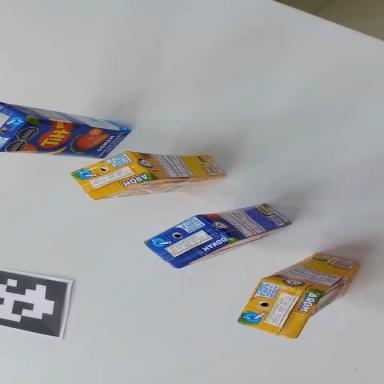HIT-MANGO: (142, 186, 292, 276), (0, 102, 132, 173)
HIT-MORA: (227, 223, 368, 359), (71, 141, 227, 202)
cara_F: (1, 115, 130, 169), (287, 262, 368, 338), (178, 222, 290, 268), (95, 172, 224, 200)
